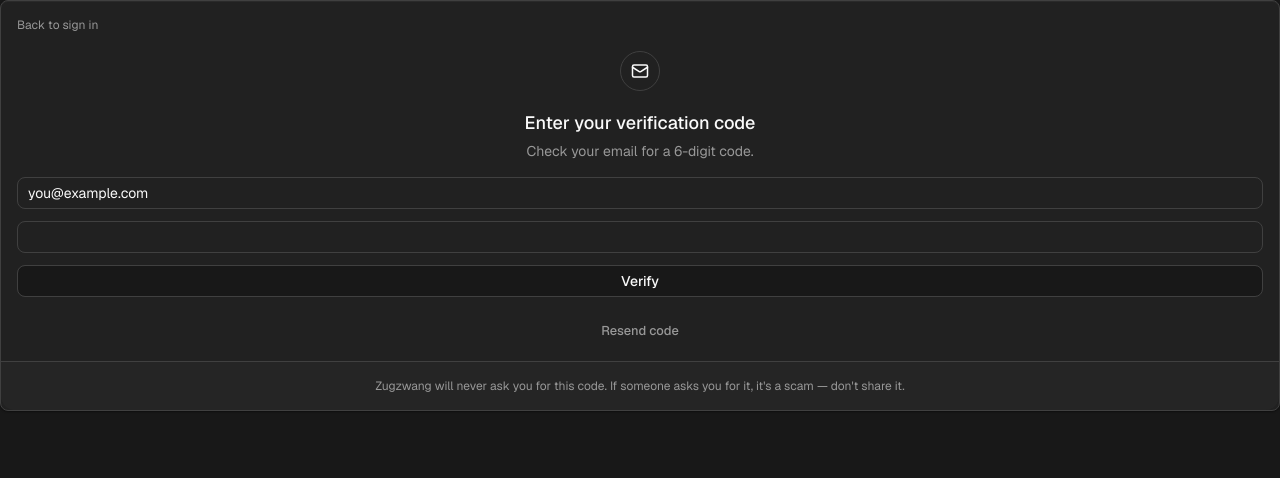
Scenario: AUTH-OTP-DELIVERY fix (b) — resend + back affordance (DRIVER, RED pre-impl) › otp-resend::resend-error-renders-in-the-shared-alert
Click the button "Resend code": (640, 331) [590,317,690,345]
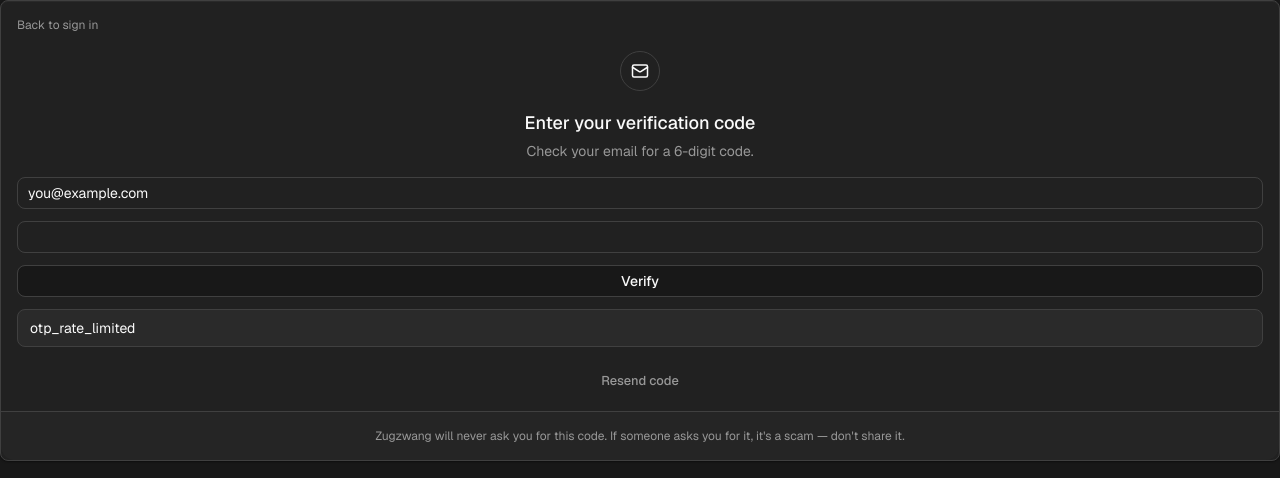
expect the message reads "otp_rate_limited": met, box [30,319,136,337]
